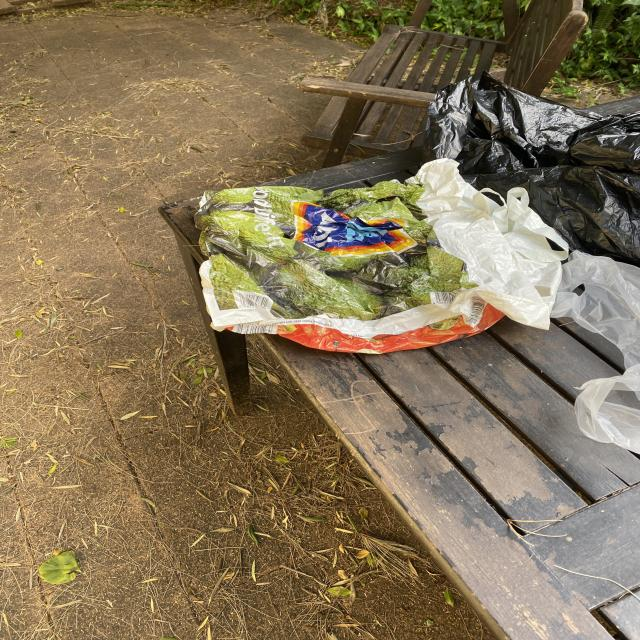bag: (192, 154, 576, 359), (402, 66, 640, 278), (558, 244, 640, 469)
